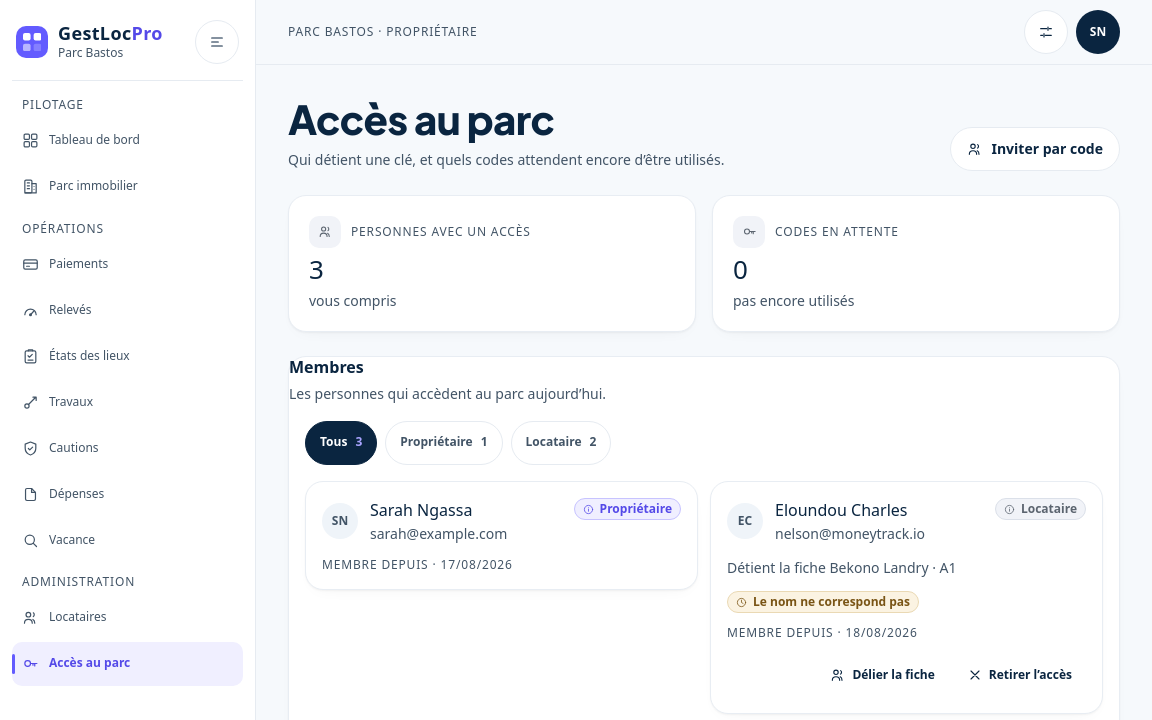
Scenario: défaire un lien › demande confirmation, en nommant ce qui va être retiré
expect the list item "Eloundou Charles" is shown: met, box [775,499,908,521]
What coordinates should you click on to do the following:
click the button "Délier la fiche"
I would click on:
 (883, 675)
Its box is [816,653,949,697].
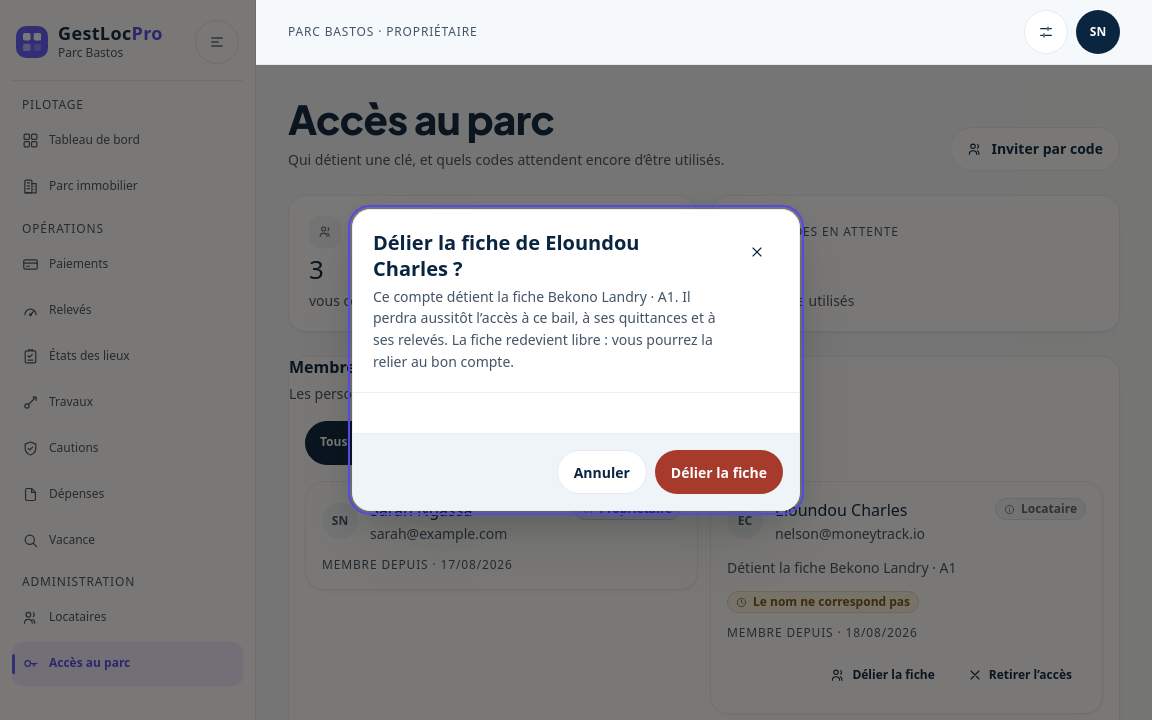
expect the text "quittances" is shown: met, box [373,287,716,371]
